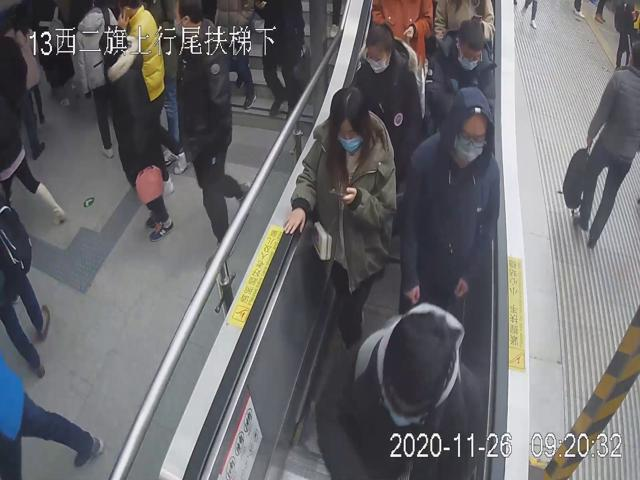person: (314, 301, 487, 480), (282, 86, 396, 347), (401, 84, 501, 314), (348, 20, 424, 176), (430, 17, 495, 135)
